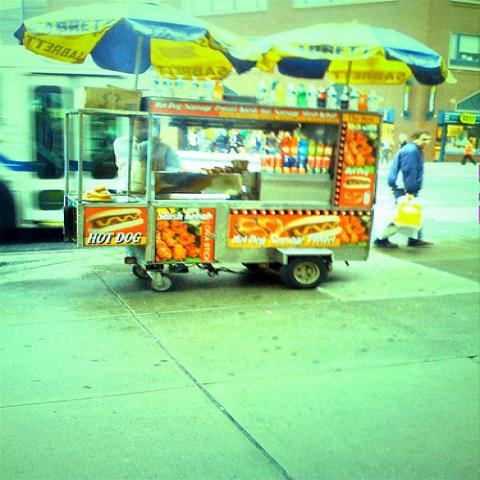bus: (0, 47, 141, 237)
